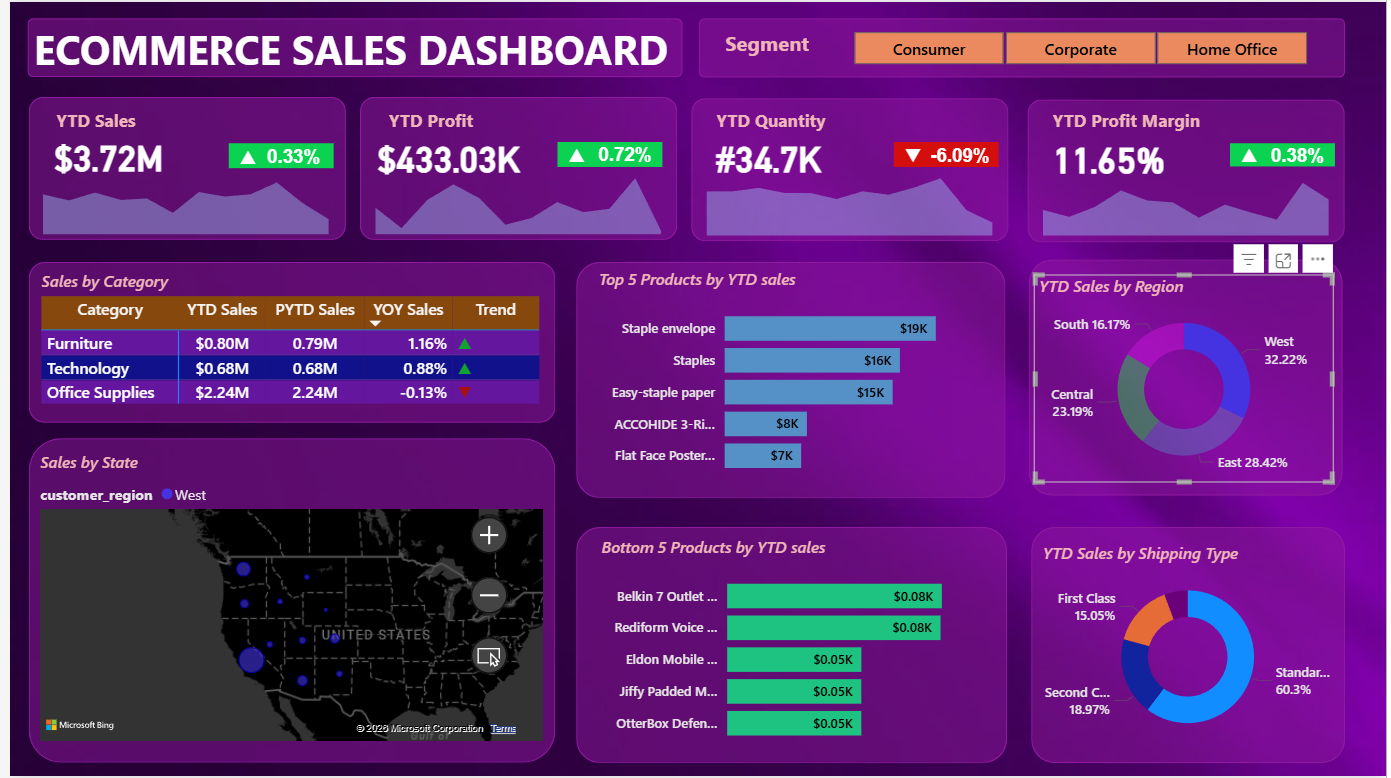

This screenshot's page, from the dashboard's own definition file:
{"tool":"powerbi","page":{"name":"Page 1","canvas":[1280,720],"ordinal":0},"visuals":[{"type":"shape","box":[17.8,87.8,295,133],"z":0},{"type":"shape","box":[203.1,131.7,97.4,23.3],"z":1000},{"type":"shape","box":[325.2,87.8,295,133.1],"z":2000},{"type":"shape","box":[16.5,15.1,609.3,54.9],"z":3000},{"type":"textbox","box":[17.8,13.7,607.9,60.4],"z":4000},{"type":"card","fields":{"Values":["ecommerce_data.YTD Sales"]},"box":[8.2,116.6,167.4,53.5],"z":5000},{"type":"areaChart","fields":{"Category":["Calender.Month"],"Y":["Sum(ecommerce_data.sales_per_order)"]},"box":[16.5,142.7,295,78.2],"z":6000},{"type":"card","fields":{"Values":["ecommerce_data.YOY Sales"]},"box":[222.3,131.7,83.7,27.4],"z":7000},{"type":"textbox","box":[38.4,94.7,86.4,37],"z":8000},{"type":"card","fields":{"Values":["ecommerce_data.YTD Profit"]},"box":[323.8,118,167.4,53.5],"z":9000},{"type":"areaChart","fields":{"Category":["Calender.Month"],"Y":["Sum(ecommerce_data.profit_per_order)"]},"box":[325.1,142.8,295,78.2],"z":10000},{"type":"shape","box":[509.1,130.4,97.4,23.3],"z":11000},{"type":"card","fields":{"Values":["ecommerce_data.YOY Profit"]},"box":[529.7,129,83.7,28.8],"z":12000},{"type":"card","fields":{"Values":["ecommerce_data.Profit Icon"]},"box":[509.1,130.4,35.7,27.4],"z":13000},{"type":"textbox","box":[347.2,94.7,101.5,37],"z":14000},{"type":"shape","box":[633.8,89,295,133.1],"z":15000},{"type":"areaChart","fields":{"Category":["Calender.Month"],"Y":["Sum(ecommerce_data.order_quantity)"]},"box":[633.7,144,295,78.2],"z":16000},{"type":"shape","box":[822,130.4,97.4,23.3],"z":17000},{"type":"card","fields":{"Values":["ecommerce_data.YOY Qty"]},"box":[842.4,130.2,83.7,28.8],"z":18000},{"type":"card","fields":{"Values":["ecommerce_data.Qty Icon"]},"box":[822,130.4,35.7,27.4],"z":19000},{"type":"textbox","box":[651.8,94.7,115.3,37],"z":20000},{"type":"card","fields":{"Values":["ecommerce_data.YTD Concated Qty"]},"box":[621.6,118,167.4,53.5],"z":21000},{"type":"shape","box":[946.8,90.6,295,133.1],"z":22000},{"type":"areaChart","fields":{"Category":["Calender.Month"],"Y":["ecommerce_data.Profit Margin"]},"box":[946.6,144.2,295,78.2],"z":23000},{"type":"shape","box":[1134.8,131.7,97.4,22],"z":24000},{"type":"card","fields":{"Values":["ecommerce_data.YOY PMG"]},"box":[1155.4,130.3,83.7,28.8],"z":25000},{"type":"card","fields":{"Values":["ecommerce_data.PMG Icon"]},"box":[1134.9,130.5,35.7,27.4],"z":26000},{"type":"textbox","box":[964.7,94.7,170.2,37],"z":27000},{"type":"card","fields":{"Values":["ecommerce_data.YTD PMG"]},"box":[938.7,118.1,167.4,53.5],"z":28000},{"type":"shape","box":[17.8,241.5,489.9,149.6],"z":29000},{"type":"pivotTable","title":"Sales by Category","fields":{"Rows":["ecommerce_data.category_name"],"Values":["ecommerce_data.YTD Sales","ecommerce_data.PYTD Sales","ecommerce_data.YOY Sales","ecommerce_data.Sales Icon"]},"box":[24.7,248.4,484.4,137.2],"z":30000},{"type":"shape","box":[17.8,406.2,489.9,301.9],"z":31000},{"type":"map","title":"Sales by State","fields":{"Y":["us_state_long_lat_codes.latitude"],"X":["us_state_long_lat_codes.longitude"],"Size":["ecommerce_data.YTD Sales"],"Series":["ecommerce_data.customer_region"]},"box":[23.3,417.2,477.5,274.4],"z":32000},{"type":"card","fields":{"Values":["ecommerce_data.Sales Icon"]},"box":[203.1,130.4,35.7,24.7],"z":33000},{"type":"shape","box":[526.9,241.5,399.3,219.6],"z":34000},{"type":"shape","box":[526.9,488.5,400.7,219.6],"z":35000},{"type":"barChart","title":"Top 5 Products by YTD sales","fields":{"Category":["ecommerce_data.product_name"],"Y":["ecommerce_data.YTD Sales"]},"box":[543.6,247.9,364.4,203.7],"z":36000},{"type":"barChart","title":"Bottom 5 Products by YTD sales","fields":{"Category":["ecommerce_data.product_name"],"Y":["ecommerce_data.YTD Sales"]},"box":[544.8,496.9,364.4,203.7],"z":37000},{"type":"shape","box":[947.2,239.3,292,219.6],"z":38000},{"type":"shape","box":[949.7,488.3,292,219.6],"z":39000},{"type":"donutChart","title":"YTD Sales by Region","fields":{"Category":["ecommerce_data.customer_region"],"Y":["ecommerce_data.YTD Sales"]},"box":[952.2,254,279.8,193.9],"z":40000},{"type":"donutChart","title":"YTD Sales by Shipping Type","fields":{"Category":["ecommerce_data.shipping_type"],"Y":["ecommerce_data.YTD Sales"]},"box":[955.8,501.8,279.8,193.9],"z":41000},{"type":"shape","box":[640.5,14.7,601.2,55.2],"z":42000},{"type":"slicer","fields":{"Values":["ecommerce_data.customer_segment"]},"box":[759.5,20.9,471.2,44.2],"z":43000},{"type":"textbox","box":[660.1,20.9,99.4,42.9],"z":44000}]}

Visuals, with their boxes in screenshot pixels (x1, y1, x2, y2), scaled from the page's 1280x720 canvas onto the 1391x778 screenshot:
shape: 19, 95, 340, 239
shape: 221, 142, 327, 167
shape: 353, 95, 674, 239
shape: 18, 16, 680, 76
textbox: 19, 15, 680, 80
card - ecommerce_data.YTD Sales: 9, 126, 191, 184
areaChart - Calender.Month x Sum(ecommerce_data.sales_per_order): 18, 154, 339, 239
card - ecommerce_data.YOY Sales: 242, 142, 333, 172
textbox: 42, 102, 136, 142
card - ecommerce_data.YTD Profit: 352, 128, 534, 185
areaChart - Calender.Month x Sum(ecommerce_data.profit_per_order): 353, 154, 674, 239
shape: 553, 141, 659, 166
card - ecommerce_data.YOY Profit: 576, 139, 667, 171
card - ecommerce_data.Profit Icon: 553, 141, 592, 171
textbox: 377, 102, 488, 142
shape: 689, 96, 1009, 240
areaChart - Calender.Month x Sum(ecommerce_data.order_quantity): 689, 156, 1009, 240
shape: 893, 141, 999, 166
card - ecommerce_data.YOY Qty: 915, 141, 1006, 172
card - ecommerce_data.Qty Icon: 893, 141, 932, 171
textbox: 708, 102, 834, 142
card - ecommerce_data.YTD Concated Qty: 676, 128, 857, 185
shape: 1029, 98, 1349, 242
areaChart - Calender.Month x ecommerce_data.Profit Margin: 1029, 156, 1349, 240
shape: 1233, 142, 1339, 166
card - ecommerce_data.YOY PMG: 1256, 141, 1347, 172
card - ecommerce_data.PMG Icon: 1233, 141, 1272, 171
textbox: 1048, 102, 1233, 142
card - ecommerce_data.YTD PMG: 1020, 128, 1202, 185
shape: 19, 261, 552, 423
"Sales by Category" pivotTable: 27, 268, 553, 417
shape: 19, 439, 552, 765
"Sales by State" map: 25, 451, 544, 747
card - ecommerce_data.Sales Icon: 221, 141, 260, 168
shape: 573, 261, 1007, 498
shape: 573, 528, 1008, 765
"Top 5 Products by YTD sales" barChart: 591, 268, 987, 488
"Bottom 5 Products by YTD sales" barChart: 592, 537, 988, 757
shape: 1029, 259, 1347, 496
shape: 1032, 528, 1349, 765
"YTD Sales by Region" donutChart: 1035, 274, 1339, 484
"YTD Sales by Shipping Type" donutChart: 1039, 542, 1343, 752
shape: 696, 16, 1349, 76
slicer - ecommerce_data.customer_segment: 825, 23, 1337, 70
textbox: 717, 23, 825, 69
